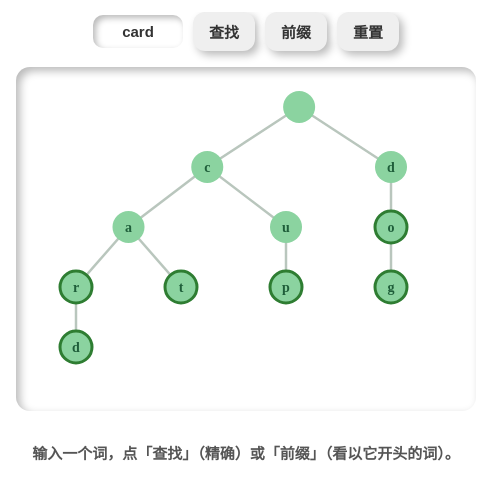
Test: TrieViz 字典树互动 › TC-VIZ-TRIEVIZ-05 查找 cab：status 含「不存在」
Replace the text in the field named "单词" with "cab": (138, 32) top-left (93, 15), bottom-right (183, 48)
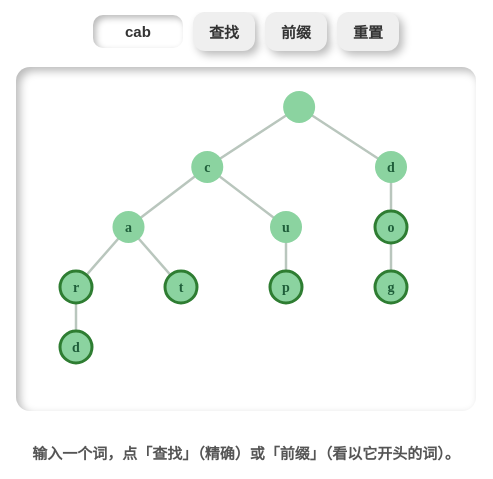
Click the button "查找": click(224, 32) top-left (193, 12), bottom-right (255, 51)
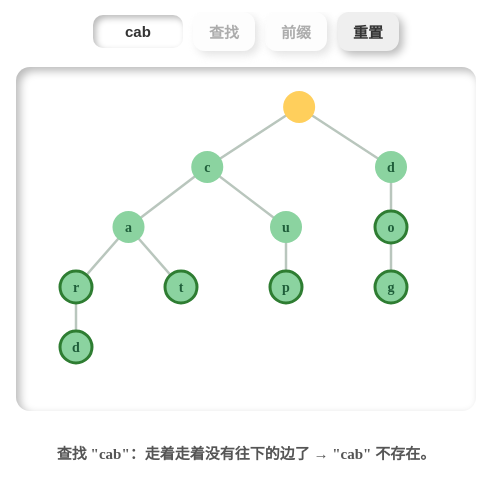
Result: the message with class "status" shows "不存在" at top-left (57, 446), bottom-right (435, 462)
